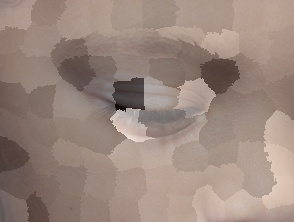vitiligo: (69, 39, 212, 169)
